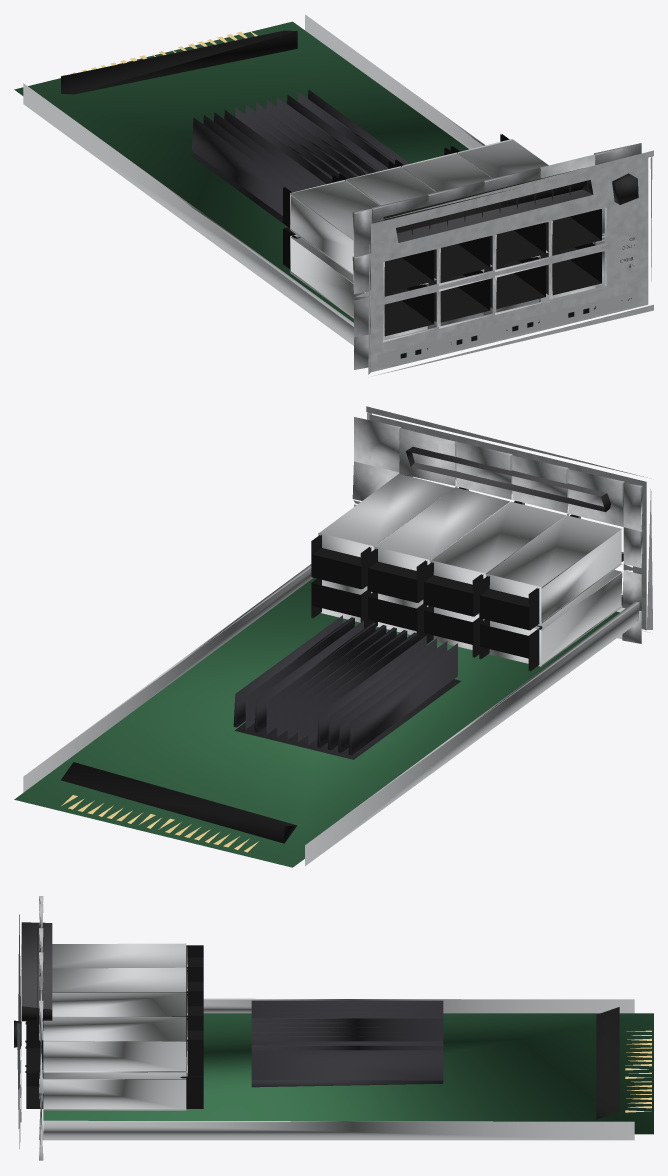
File: C9300-NM-8X.far.glb
3 views of the same model, one above another, from view 1: azimuth 30°, elevation 25°; view 2: azimuth 150°, elevation 25°; view 3: azimuth 270°, elevation 25° (orthographic). The views are drawn at different scales.
Parts seen in each view (by area): view 1: Body_far; view 2: Body_far; view 3: Body_far.
Part boxes in pixels (left/top/right/bottom): Body_far: left=14, top=14, right=653, bottom=375; Body_far: left=14, top=406, right=652, bottom=867; Body_far: left=14, top=896, right=653, bottom=1160.
Bounding box in the file's own units: 0.0771 × 0.041 × 0.167.
Materials: 4 (3 with a texture image).
